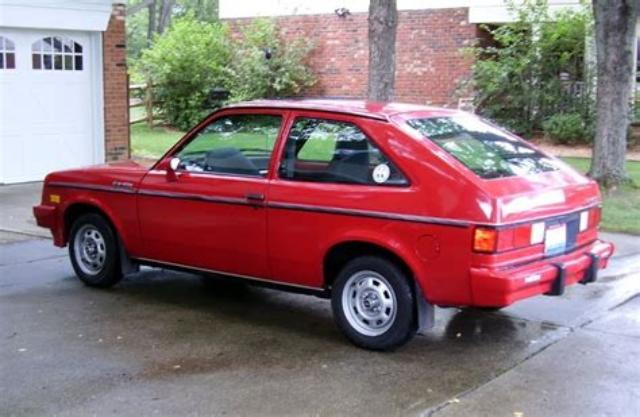chevette-1983: (32, 100, 613, 350)
